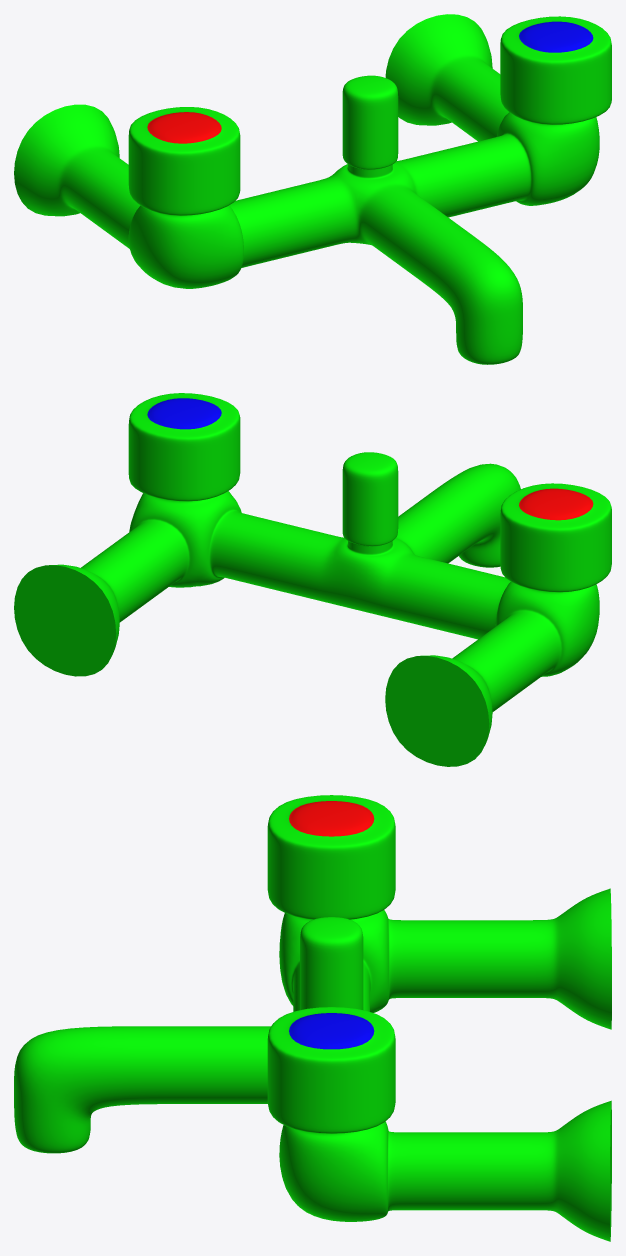
Rendered from BathtubFaucet.fbx.
3 renders of one model, top to bottom at view 1: azimuth 30°, elevation 25°; view 2: azimuth 150°, elevation 25°; view 3: azimuth 270°, elevation 25°, orthographic. The views are drawn at different scales.
Parts seen in each view (by area): view 1: Cube; view 2: Cube; view 3: Cube.
Part boxes in pixels (x1,y1,x2,y2): Cube: (14, 14, 611, 364); Cube: (14, 393, 611, 766); Cube: (14, 795, 611, 1241).
Size of the model in its own units: 23.01 by 8.68 by 21.41.
